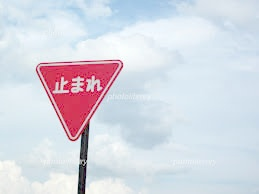Regulatory_sign_triangle: (28, 56, 140, 149)
